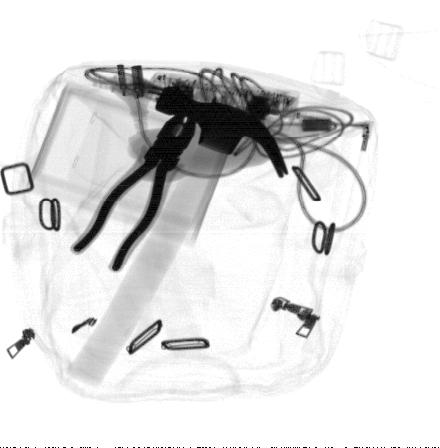Hammer: (66, 85, 289, 385)
Pliers: (69, 104, 196, 273)
